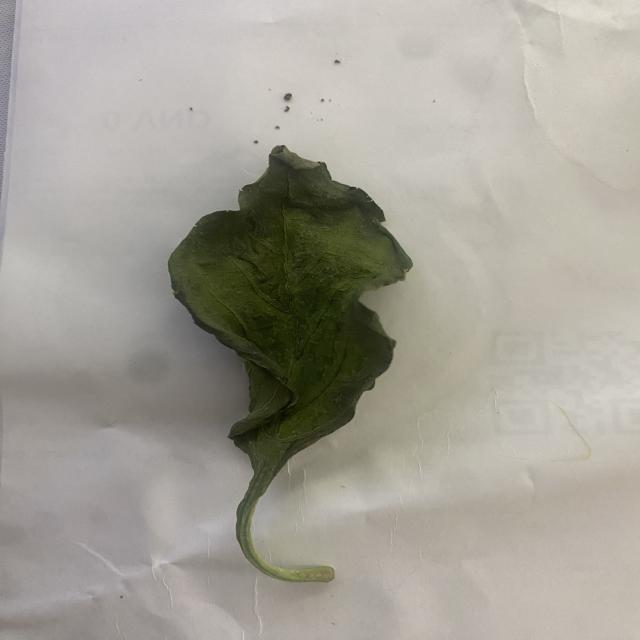Leaf: (167, 144, 414, 481)
